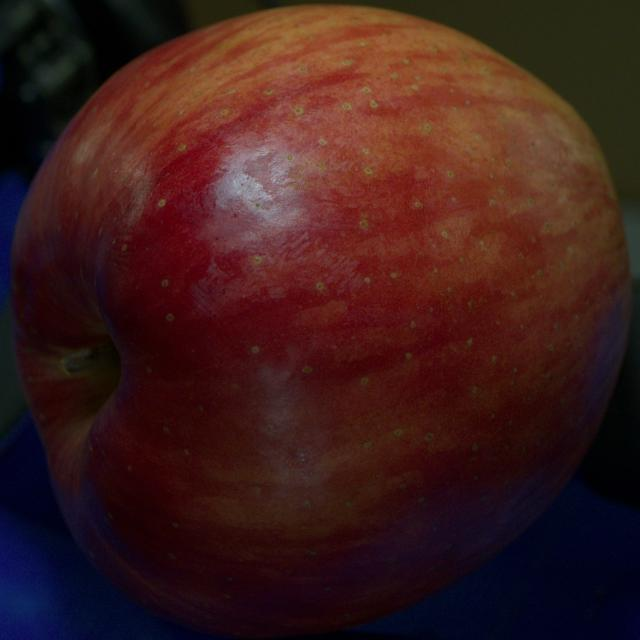apple: (11, 6, 632, 638)
